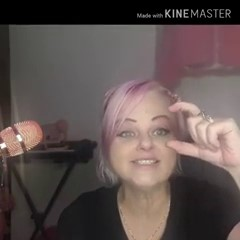C: (160, 97, 239, 170)
